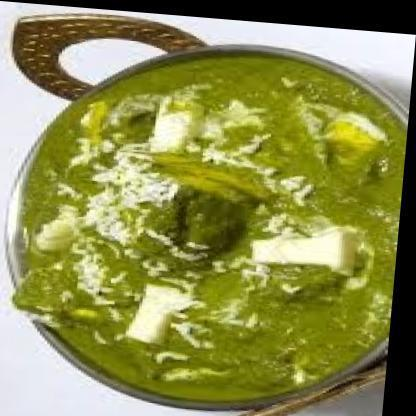palak_paneer: (11, 37, 414, 407)
